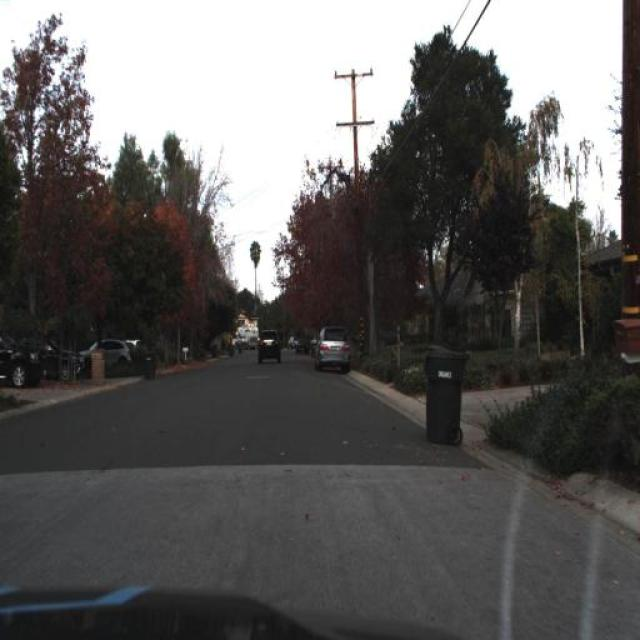car: (0, 324, 56, 391), (48, 330, 86, 379), (315, 323, 353, 372), (89, 333, 132, 368), (253, 325, 285, 365), (294, 339, 308, 356)
